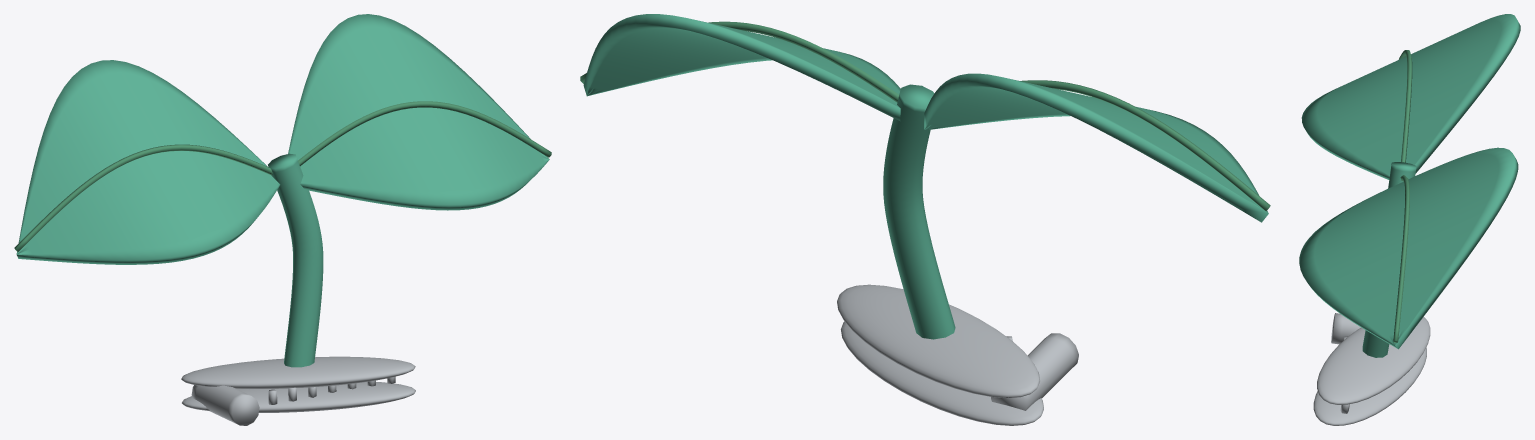
The model's file is Masculine-middle-part--headband-sprout.glb.
3 views of the same model, side by side, from view 1: azimuth 30°, elevation 25°; view 2: azimuth 150°, elevation 25°; view 3: azimuth 270°, elevation 25° (orthographic). The views are drawn at different scales.
Visible parts, largest first — view 1: 226 extra / Accessory / mint226, 226 extra / Sprout / clip silver235, 226 extra / Sprout / leaf vein235; view 2: 226 extra / Accessory / mint226, 226 extra / Sprout / clip silver235, 226 extra / Sprout / leaf vein235; view 3: 226 extra / Accessory / mint226, 226 extra / Sprout / clip silver235, 226 extra / Sprout / leaf vein235.
Boxes of the visible parts, x1,y1,x2,y2 form: 226 extra / Accessory / mint226: (16,14,549,367); 226 extra / Sprout / clip silver235: (181,356,415,425); 226 extra / Sprout / leaf vein235: (14,101,551,251); 226 extra / Accessory / mint226: (583,14,1268,339); 226 extra / Sprout / clip silver235: (837,284,1078,425); 226 extra / Sprout / leaf vein235: (580,21,1270,211); 226 extra / Accessory / mint226: (1299,14,1520,357); 226 extra / Sprout / clip silver235: (1313,313,1430,425); 226 extra / Sprout / leaf vein235: (1393,50,1412,342).
Size of the model in its own units: 0.2712 by 0.1558 by 0.1011.
